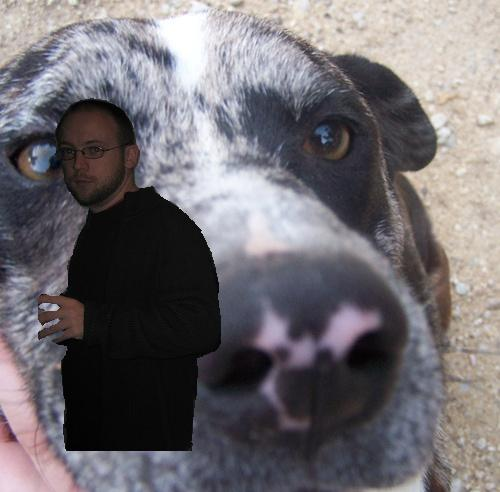tampered: (39, 99, 221, 451)
